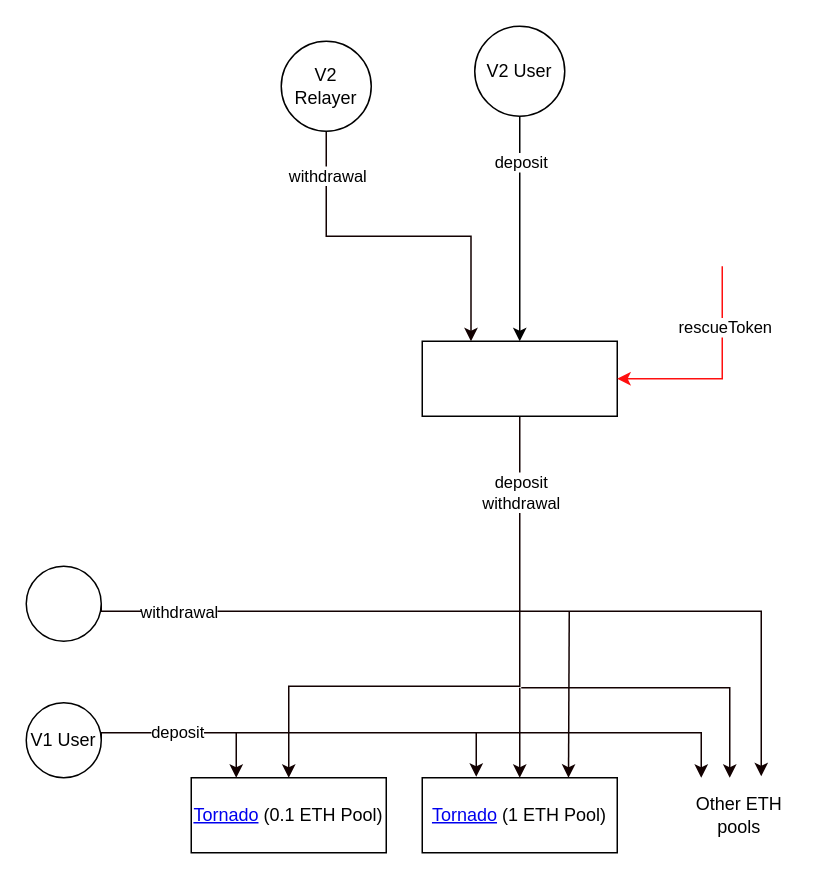
Image size: 815x879. Some labels were removed from this diagram. Here are the shapes that lost their labels. From the top down, the centre of each, then its label:
At point (519, 378): "TornadoProxy".
At point (63, 603): "V1 Relayer".
